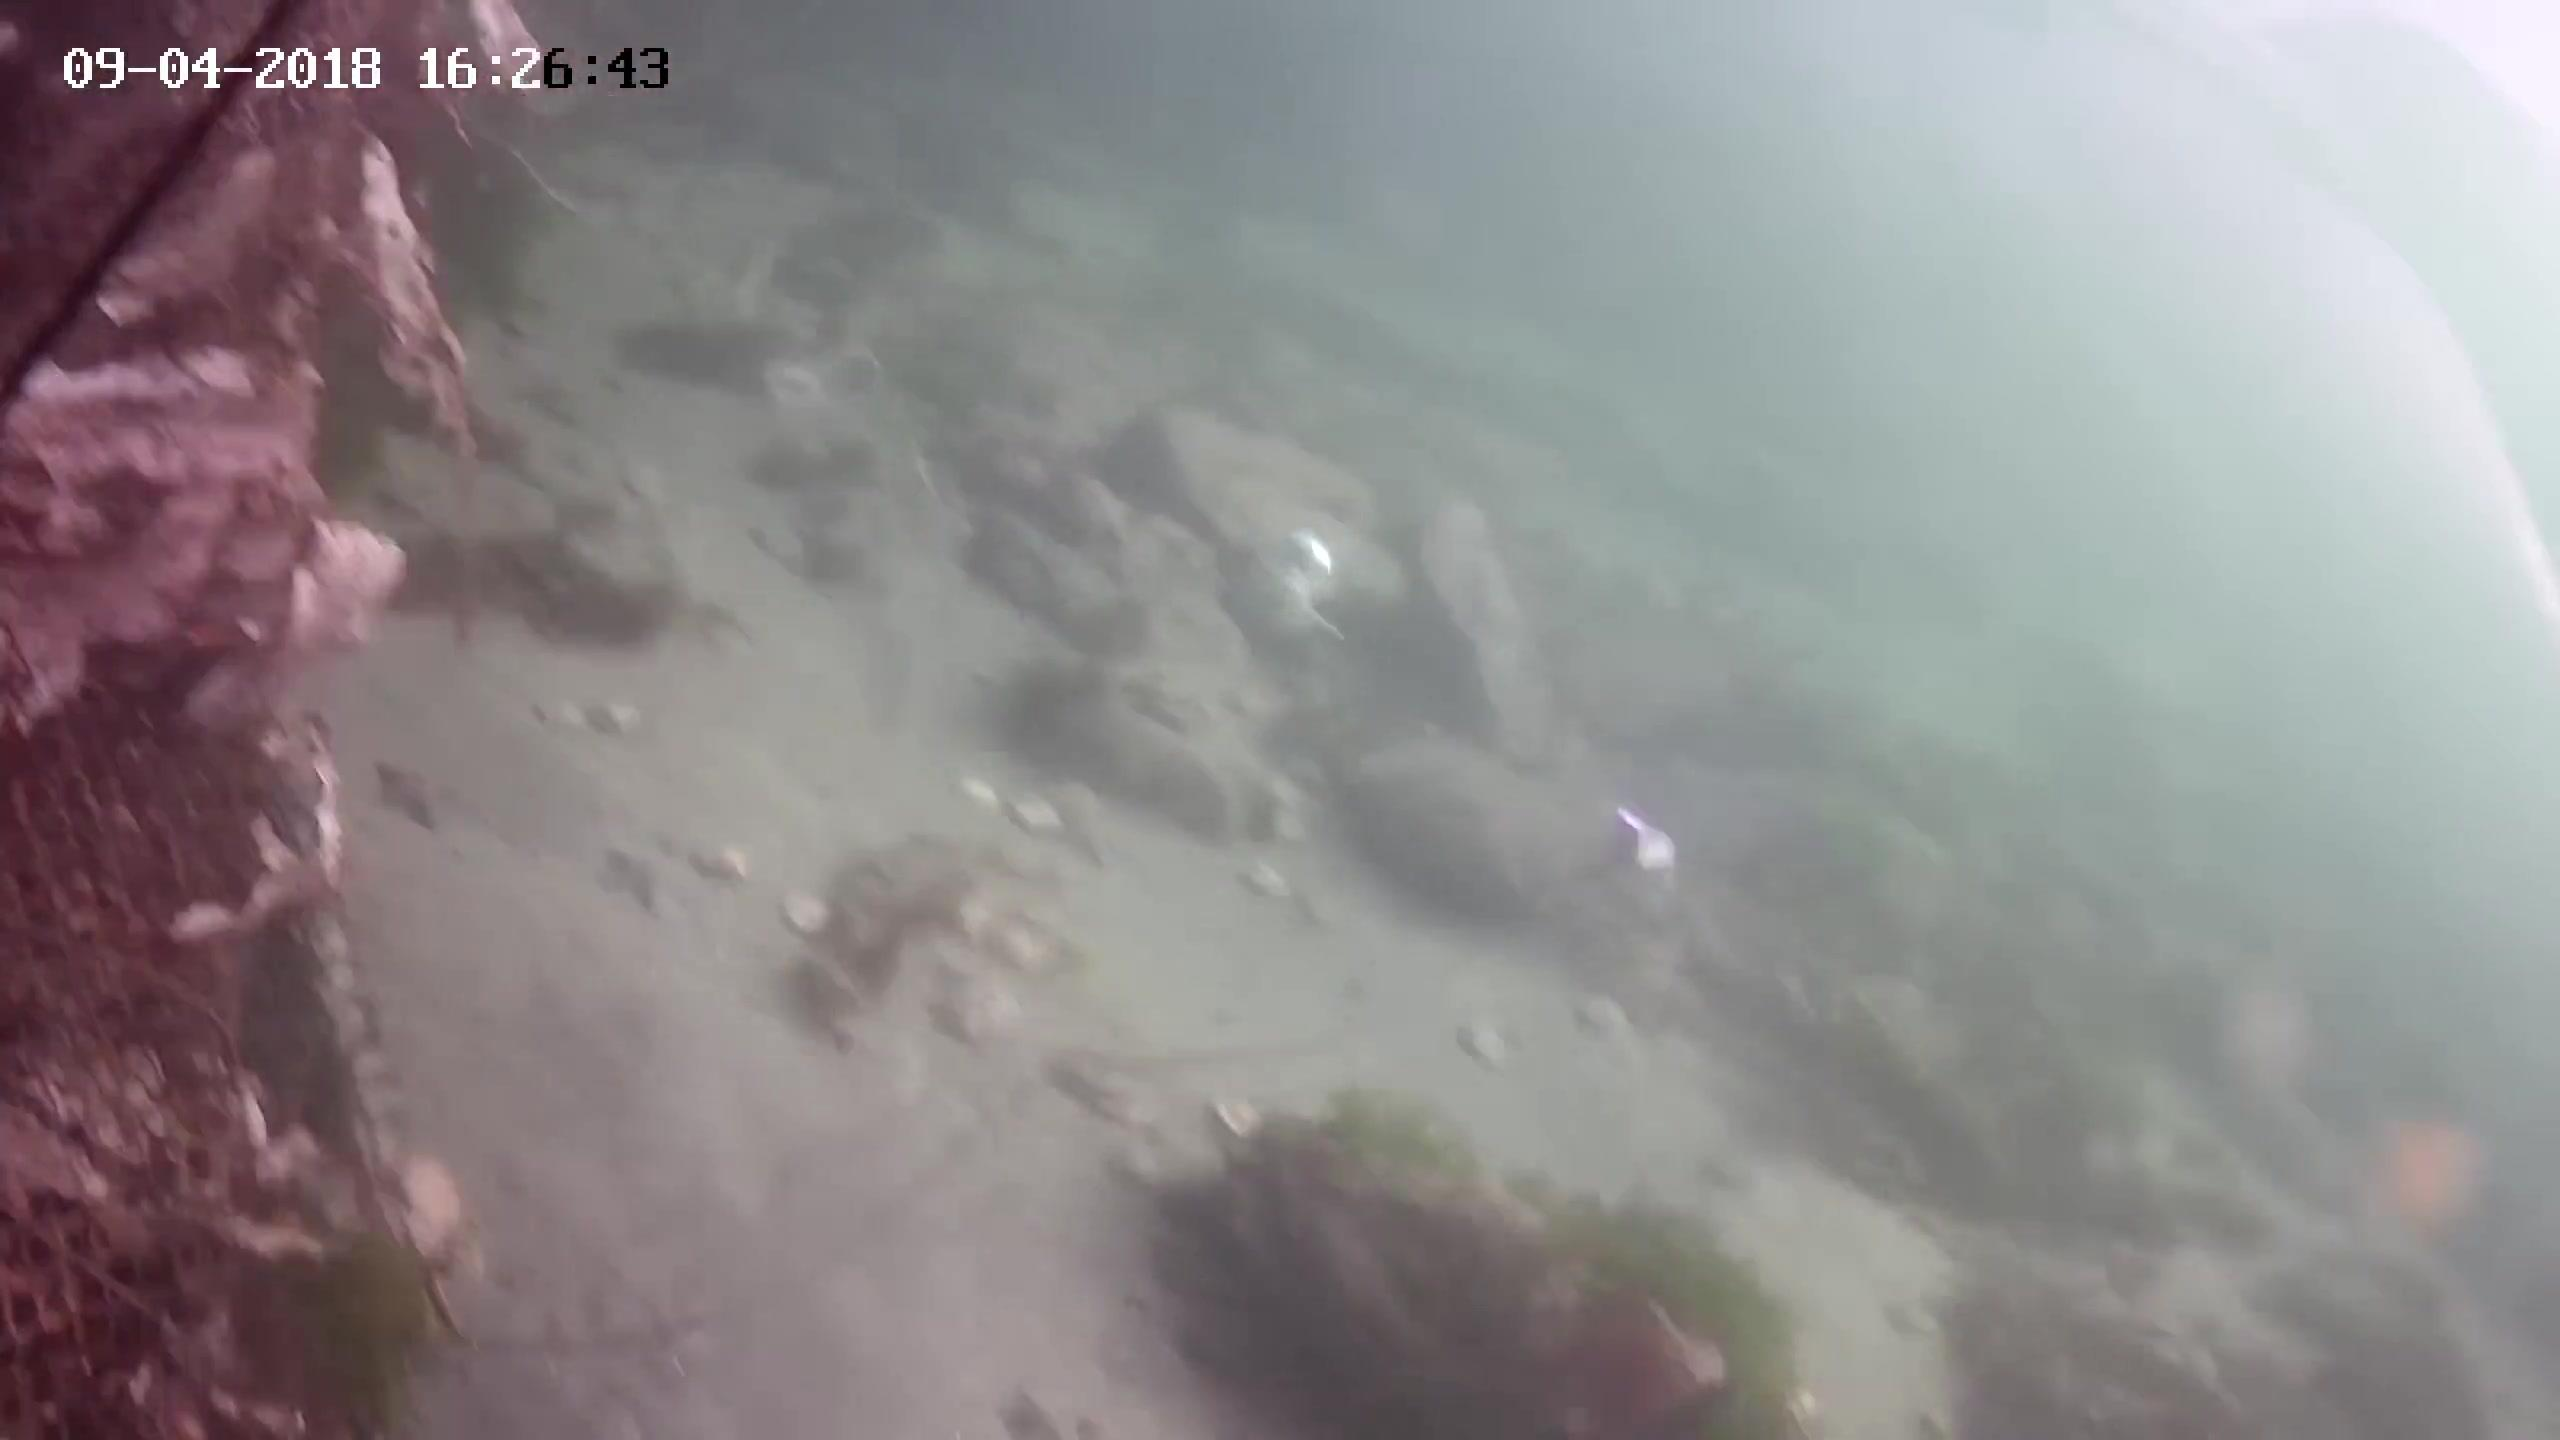scallop: (1058, 1051, 1176, 1125), (972, 905, 1069, 983), (944, 979, 1022, 1039), (1211, 1088, 1282, 1152), (1451, 1015, 1517, 1065), (1108, 1145, 1173, 1194), (1002, 786, 1060, 833), (775, 888, 832, 935), (1236, 856, 1291, 893), (951, 767, 1002, 802), (1577, 986, 1612, 1032)
